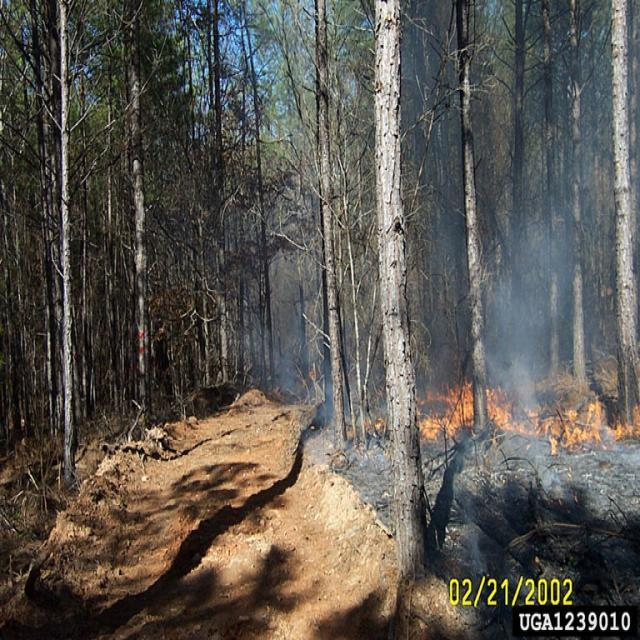Fire: (419, 378, 640, 455)
